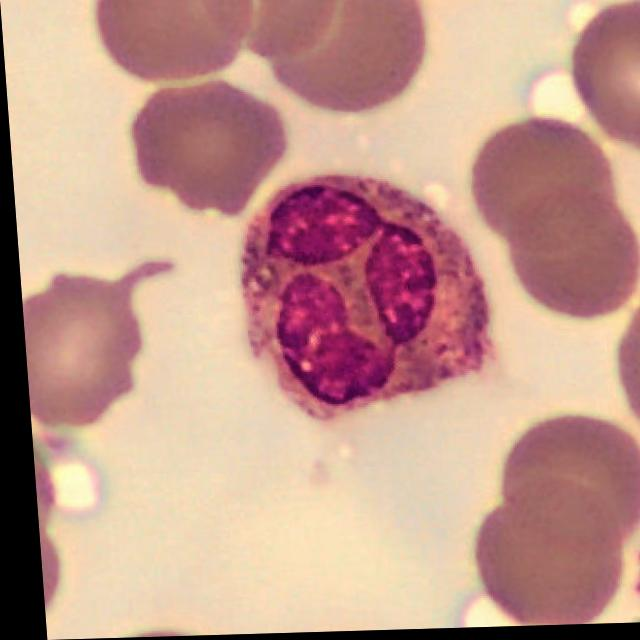Neutrofilo segmentado: (234, 178, 487, 418)
